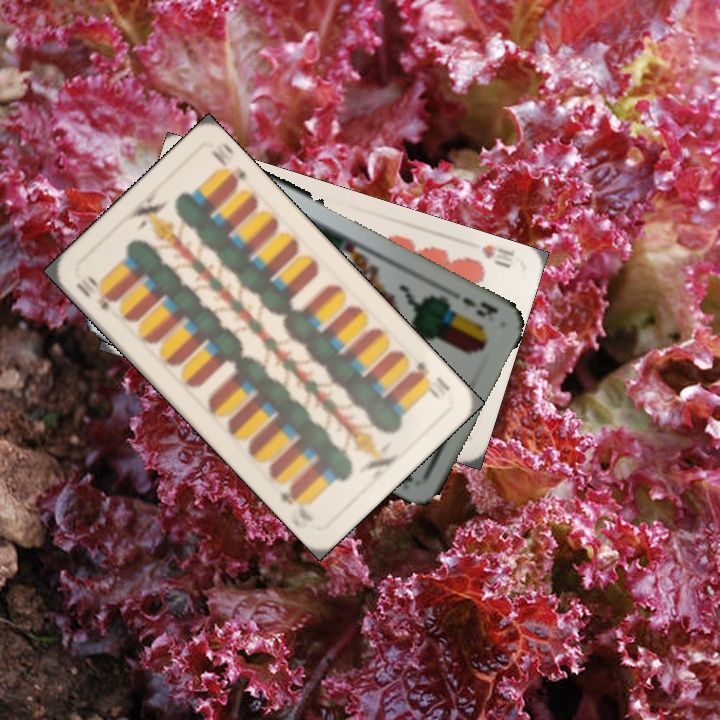E10: (407, 358, 453, 403), (72, 271, 118, 314)
EK: (457, 293, 501, 320)
H10: (478, 240, 517, 271)
